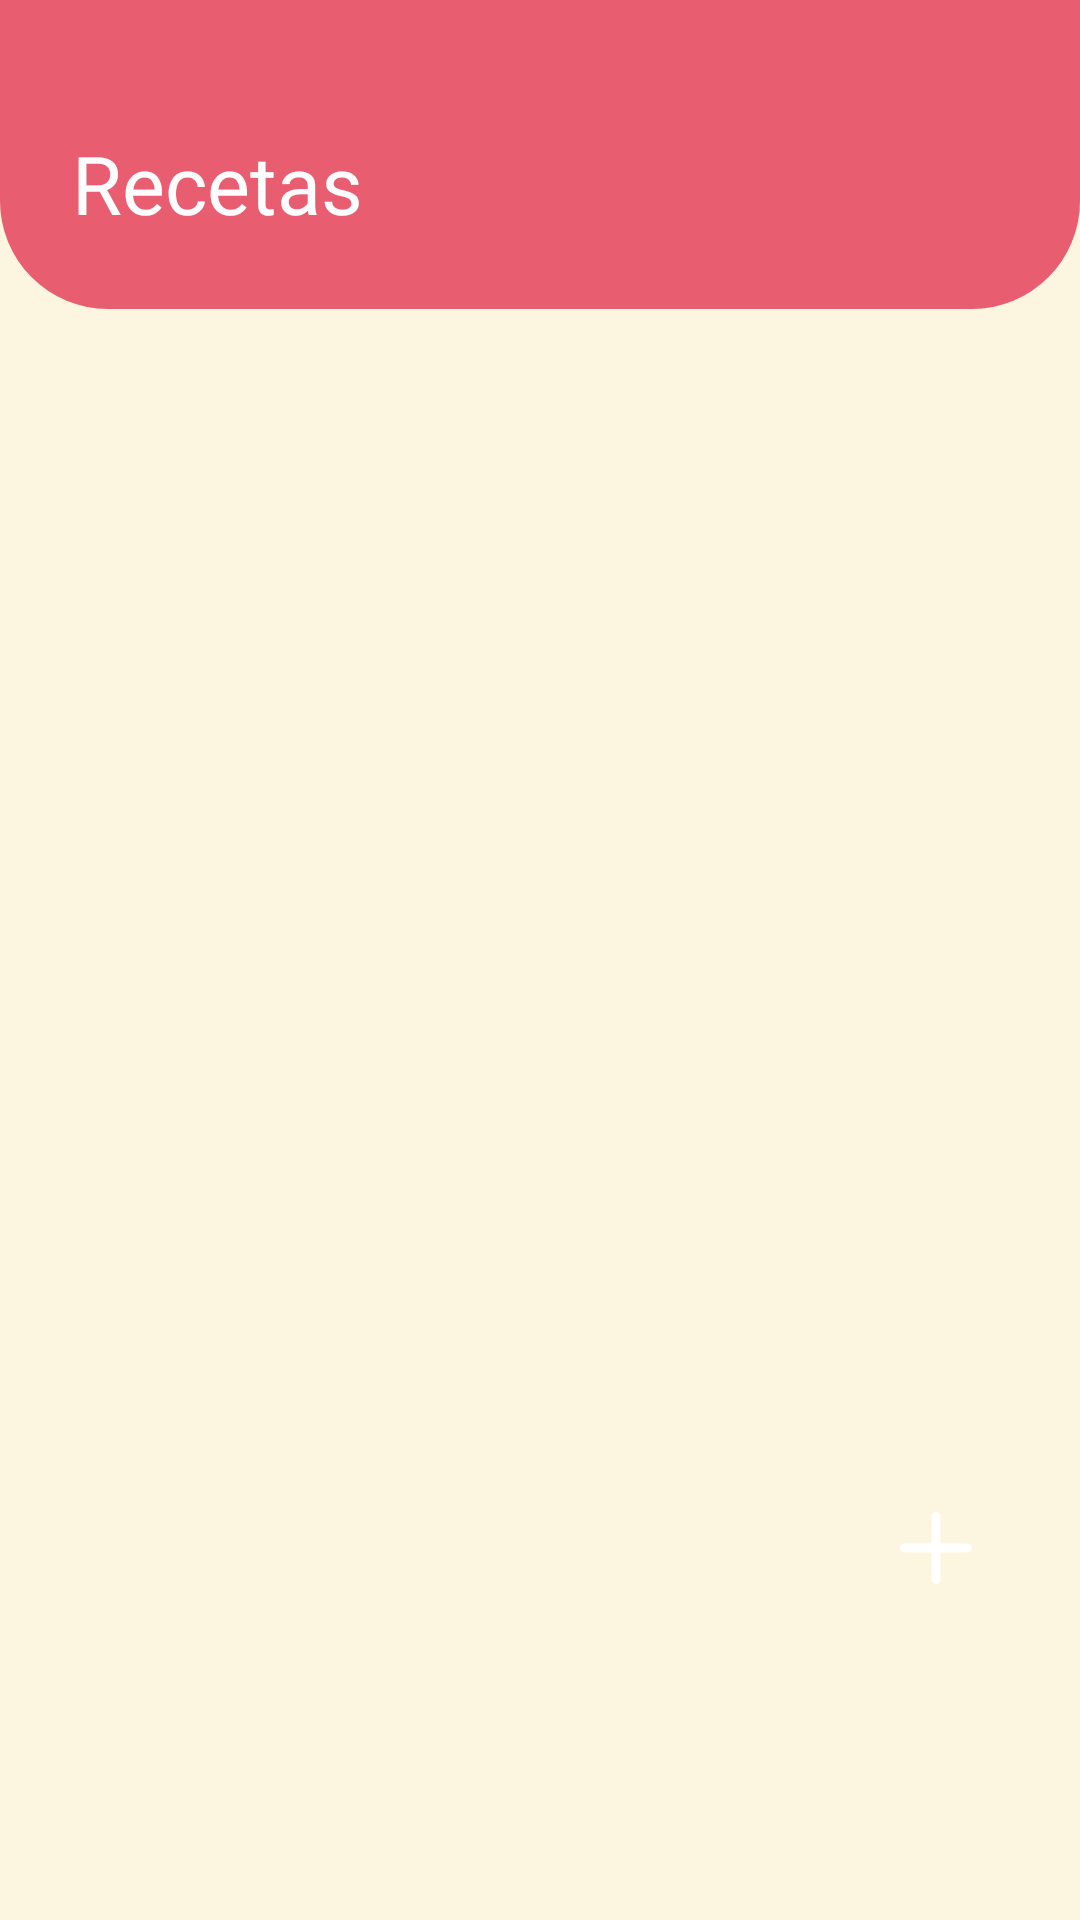

Icon click points for this 1080px x 1920px phone screenshot, format point (x, y):
Nueva receta: point (936, 1548)
